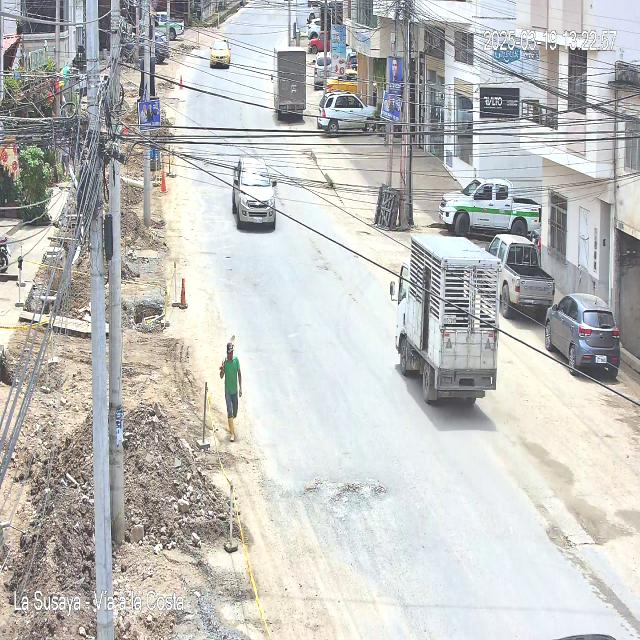CMT: (231, 156, 275, 232)
TRUCK: (394, 234, 498, 406)
